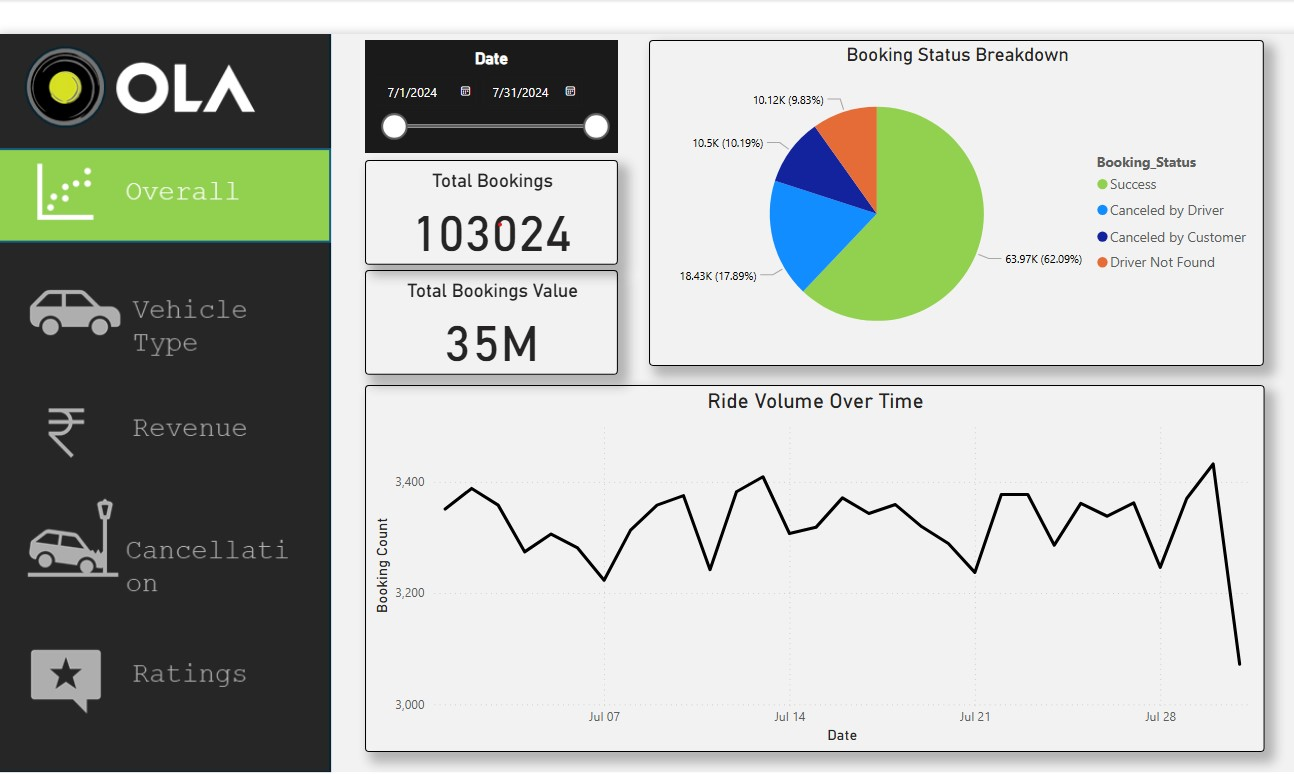

What the dashboard file says about the page in this screenshot:
{"tool":"powerbi","page":{"name":"OVERALL","canvas":[1280,720],"ordinal":0},"visuals":[{"type":"actionButton","box":[0,230,322.7,91.8],"z":0},{"type":"actionButton","box":[0.9,340.4,322.7,91.6],"z":1000},{"type":"actionButton","box":[0,451.6,322.7,97.8],"z":2000},{"type":"actionButton","box":[0,580.4,322.7,97.8],"z":3000},{"type":"lineChart","title":"Ride Volume Over Time","fields":{"Y":["CountNonNull(Bookings-100000-Rows - July.Booking_ID)"],"Category":["Bookings-100000-Rows - July.Date"]},"box":[356.5,341,874.7,356.5],"z":4000},{"type":"pieChart","title":"Booking Status Breakdown","fields":{"Category":["Bookings-100000-Rows - July.Booking_Status"],"Y":["CountNonNull(Bookings-100000-Rows - July.Booking_Status)"],"Series":["Bookings-100000-Rows - July.Booking_Status"]},"box":[633.2,5.8,598.2,317.1],"z":5000},{"type":"slicer","title":"Date","fields":{"Values":["Bookings-100000-Rows - July.Date"]},"box":[357,6,246,109],"z":6000},{"type":"card","title":"Total Bookings","fields":{"Values":["CountNonNull(Bookings-100000-Rows - July.Booking_ID)"]},"box":[357,122.6,246.1,102.1],"z":7000},{"type":"card","title":"Total Bookings Value","fields":{"Values":["Sum(Bookings-100000-Rows - July.Booking_Value)"]},"box":[357,230,246,102],"z":8000}]}

Visuals, with their boxes in screenshot pixels (x1, y1, x2, y2):
actionButton: bbox=(0, 265, 327, 360)
actionButton: bbox=(0, 379, 328, 473)
actionButton: bbox=(0, 494, 327, 595)
actionButton: bbox=(0, 627, 327, 728)
"Ride Volume Over Time" lineChart: bbox=(362, 379, 1266, 748)
"Booking Status Breakdown" pieChart: bbox=(648, 33, 1266, 361)
"Date" slicer: bbox=(362, 33, 617, 146)
"Total Bookings" card: bbox=(362, 154, 617, 259)
"Total Bookings Value" card: bbox=(362, 265, 617, 370)
